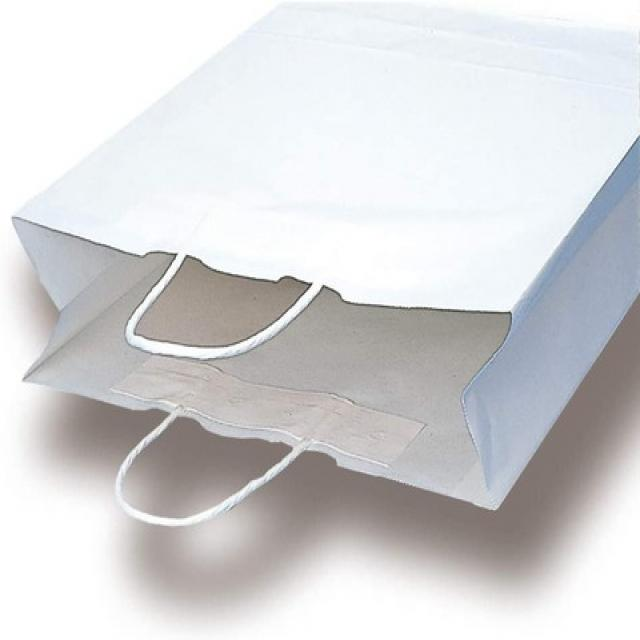paper bag: (8, 3, 640, 527)
